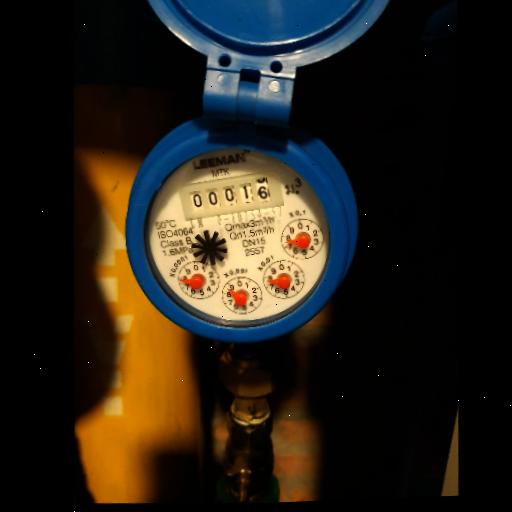0: (221, 182, 238, 207), (188, 188, 206, 211), (205, 186, 222, 209)
1: (238, 181, 255, 204)
6: (251, 174, 273, 205)
border_water_meter_number: (175, 165, 286, 227)
